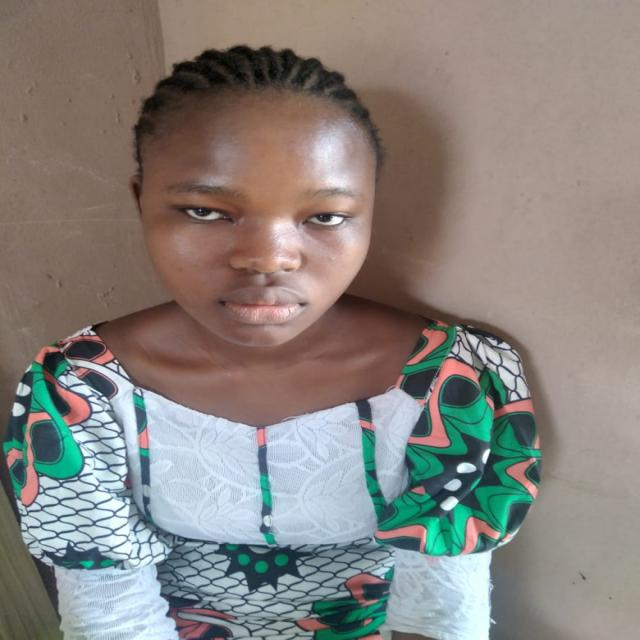sad: (125, 49, 382, 354)
